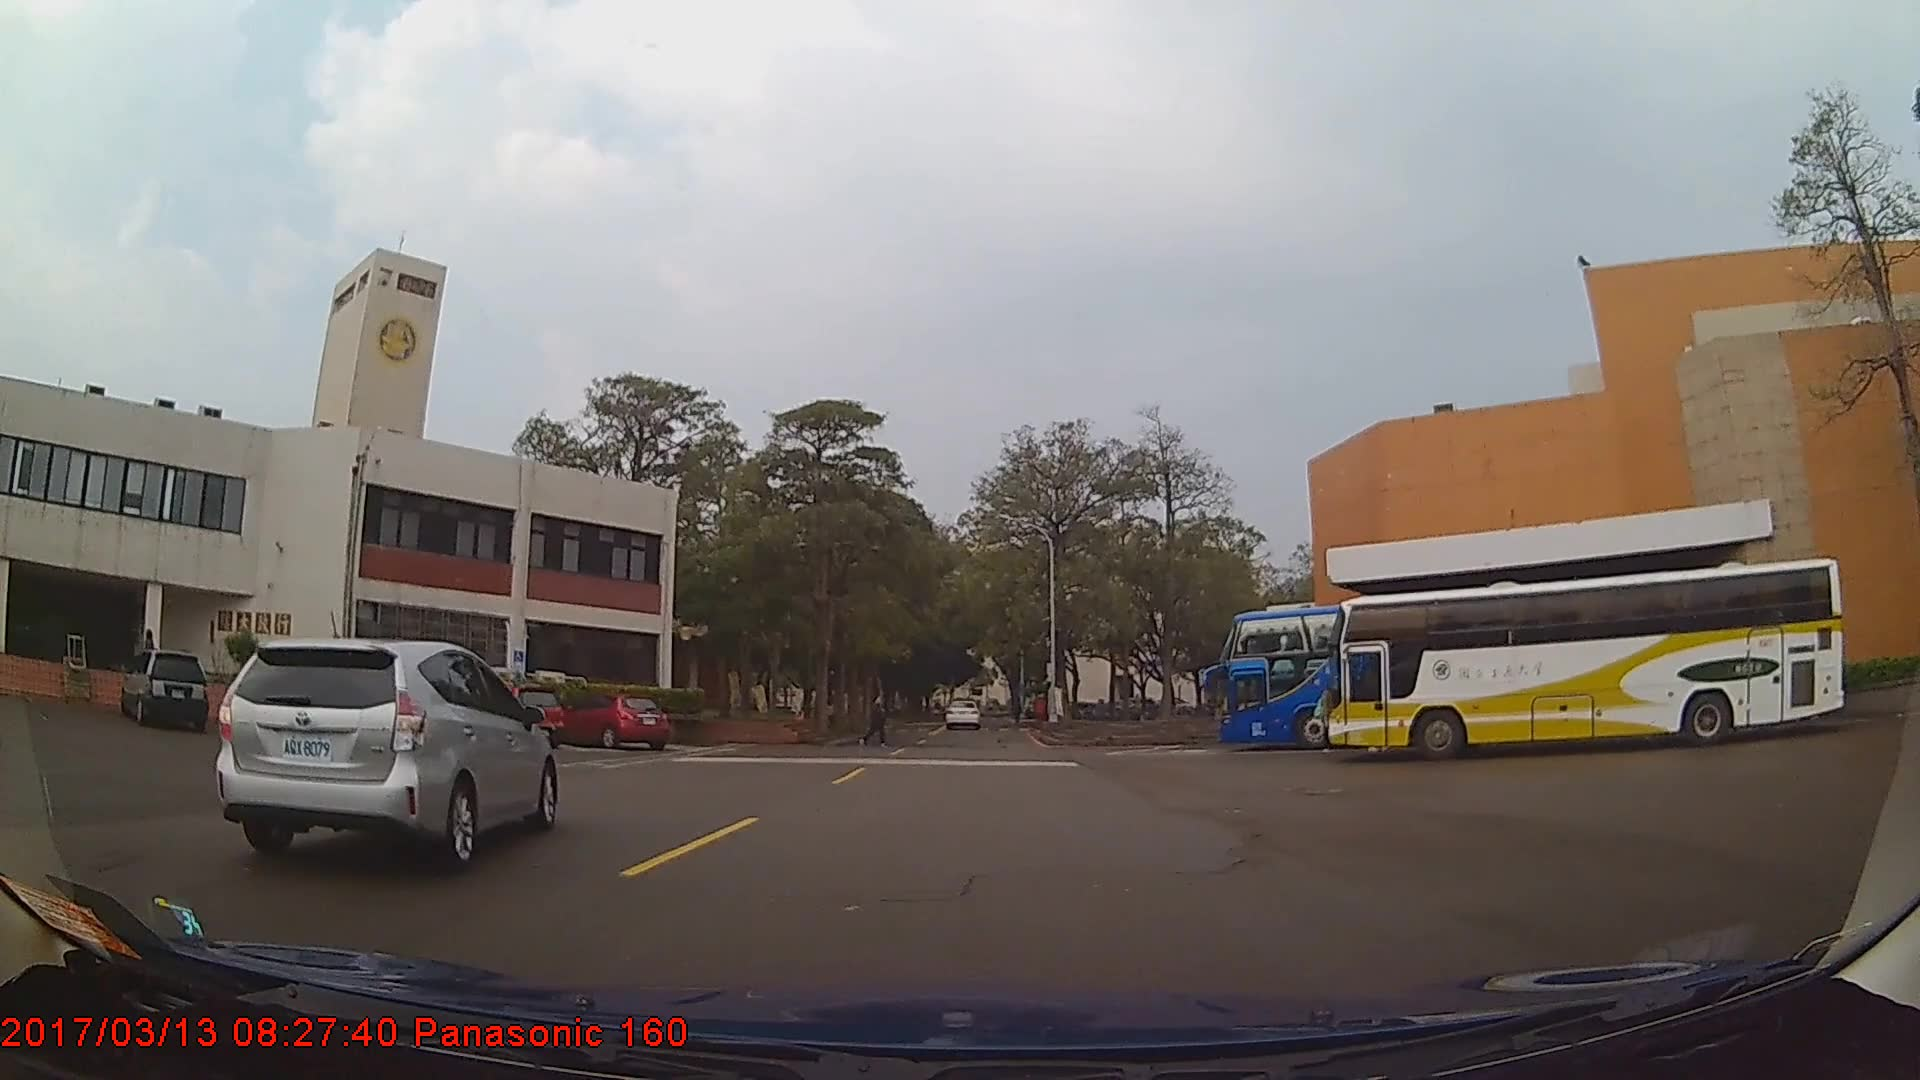pedestrian: (867, 689, 888, 745)
vehicle: (1328, 557, 1847, 762), (215, 635, 560, 866), (1219, 606, 1719, 755), (119, 647, 208, 730), (560, 691, 671, 751), (490, 684, 566, 747), (945, 699, 980, 730)
